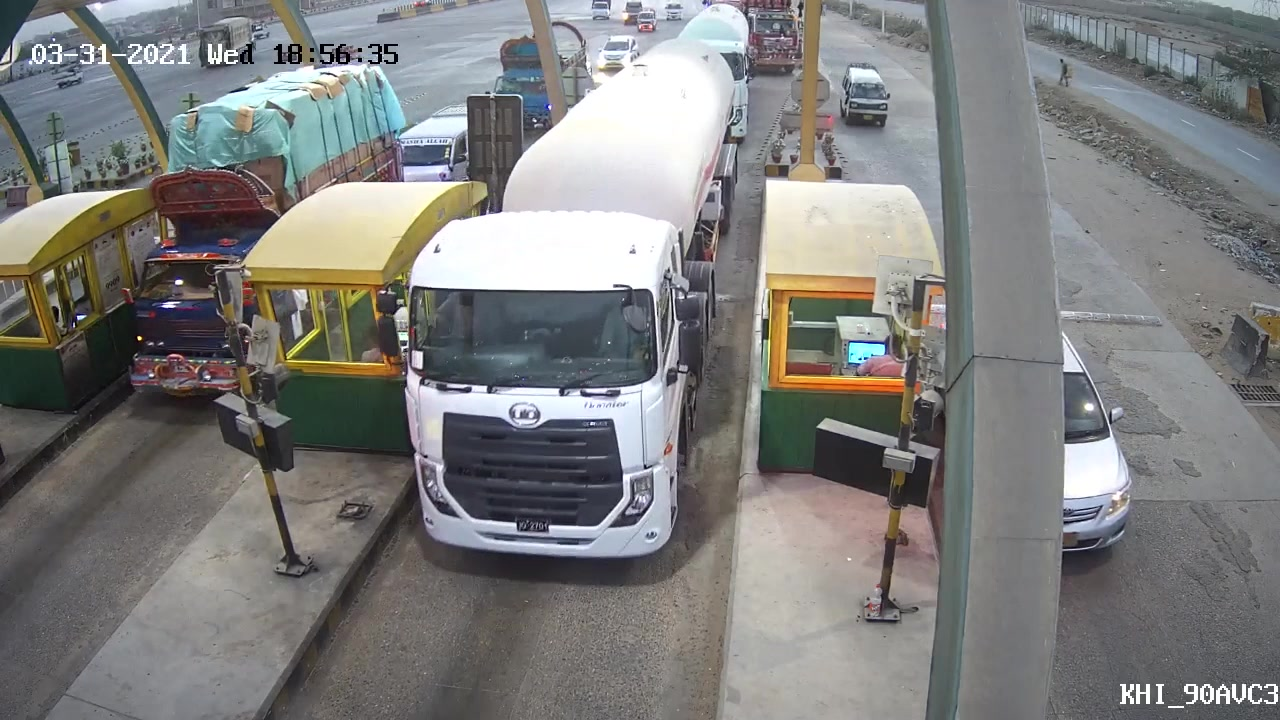F6: (373, 44, 739, 564)
